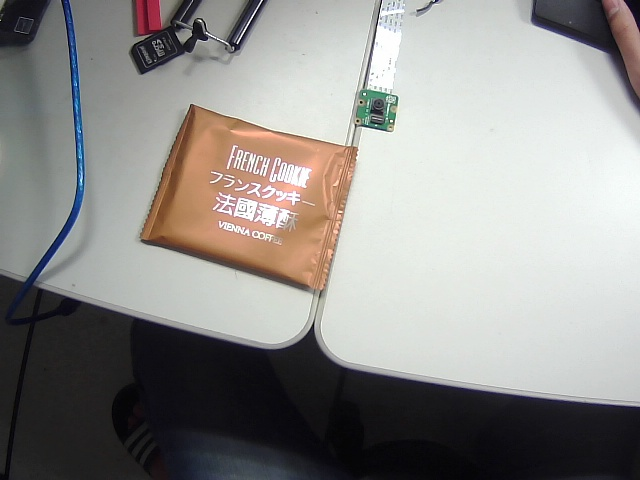frenchcookie: (137, 93, 389, 315)
